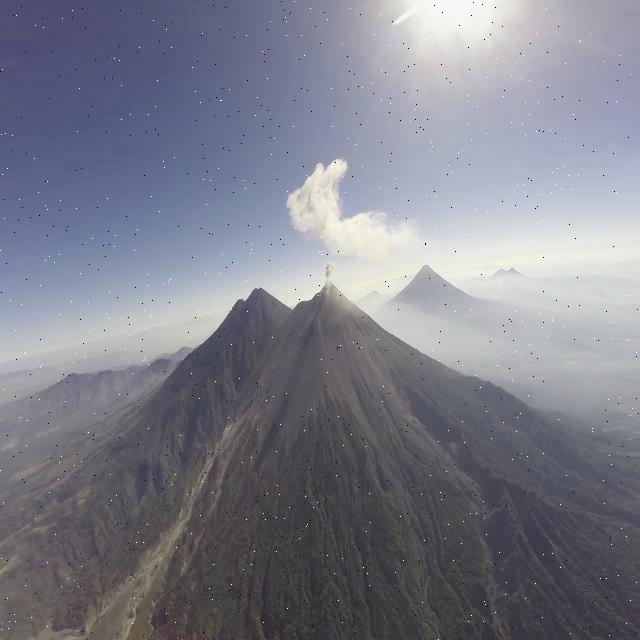Plume: (284, 157, 418, 264), (324, 262, 336, 286)
Summit: (312, 279, 355, 306)
